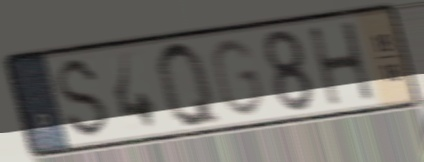4: (116, 48, 162, 133)
8: (260, 27, 318, 115)
G: (208, 35, 267, 119)
H: (304, 18, 378, 109)
Q: (154, 37, 227, 131)
S: (55, 54, 113, 142)
